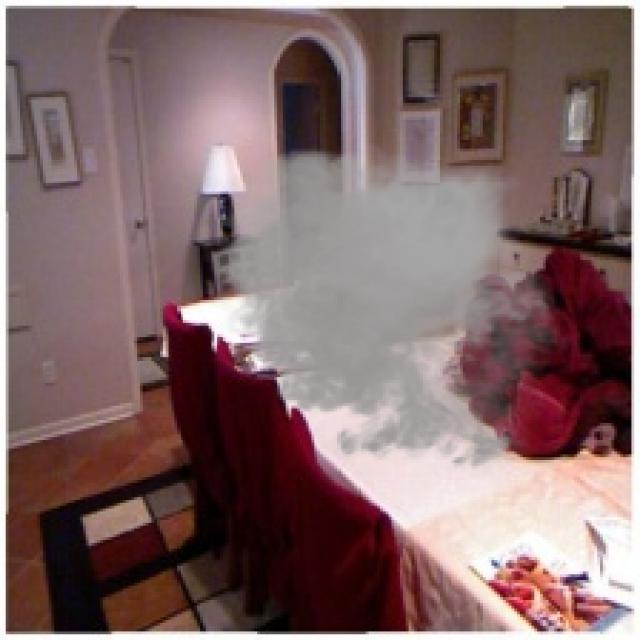Smoke: (199, 137, 572, 480)
